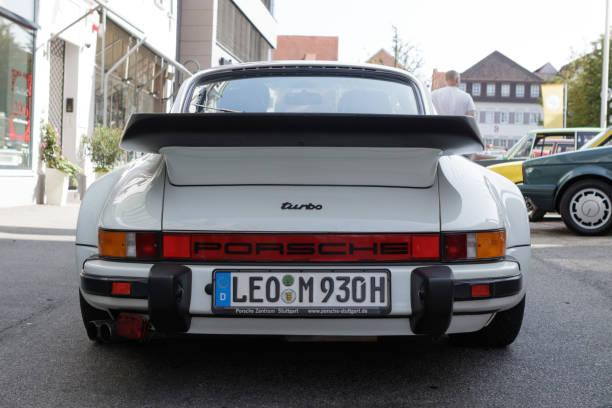porsche: (183, 233, 420, 268)
